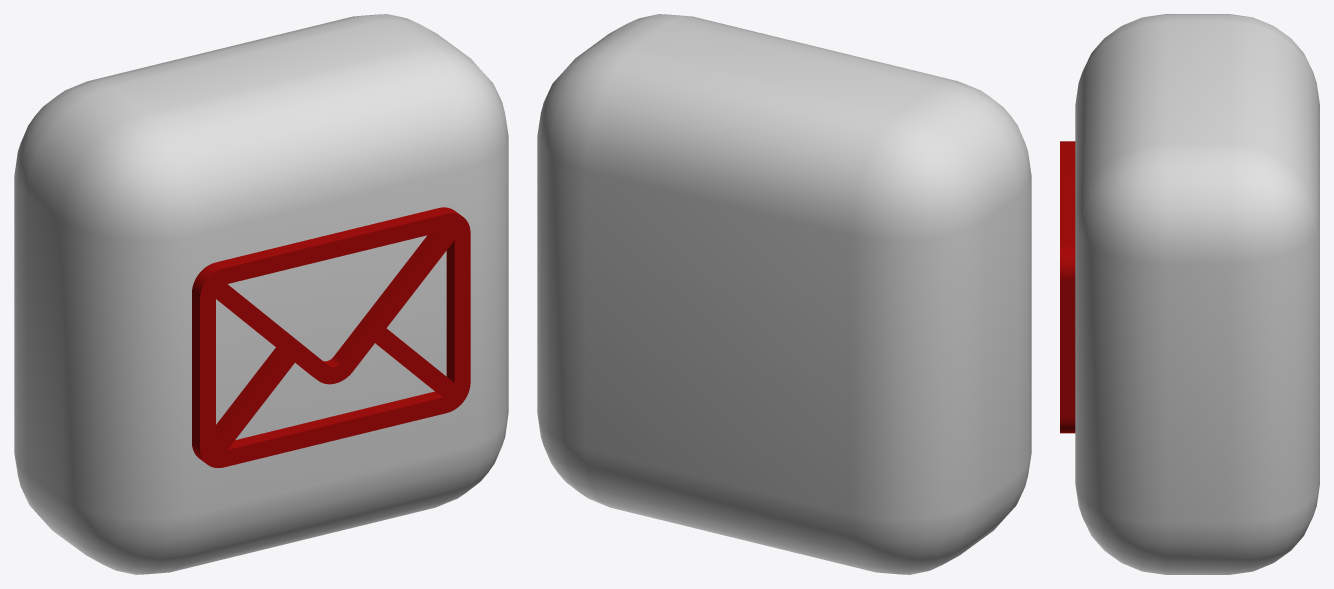
Rendered from Email.glb.
The picture shows the model from 3 angles, left to right: view 1: azimuth 30°, elevation 25°; view 2: azimuth 150°, elevation 25°; view 3: azimuth 270°, elevation 25°; orthographic projection. The views are drawn at different scales.
Visible parts, largest first — view 1: LinkedIn.005, Curve.003; view 2: LinkedIn.005; view 3: LinkedIn.005, Curve.003.
Part boxes in pixels (x1,y1,x2,y2): LinkedIn.005: [14, 14, 508, 574]; Curve.003: [192, 207, 470, 468]; LinkedIn.005: [537, 14, 1031, 574]; LinkedIn.005: [1075, 14, 1319, 574]; Curve.003: [1060, 141, 1075, 433].
Bounding box in the file's own units: 0.989 × 0.989 × 0.5497.
